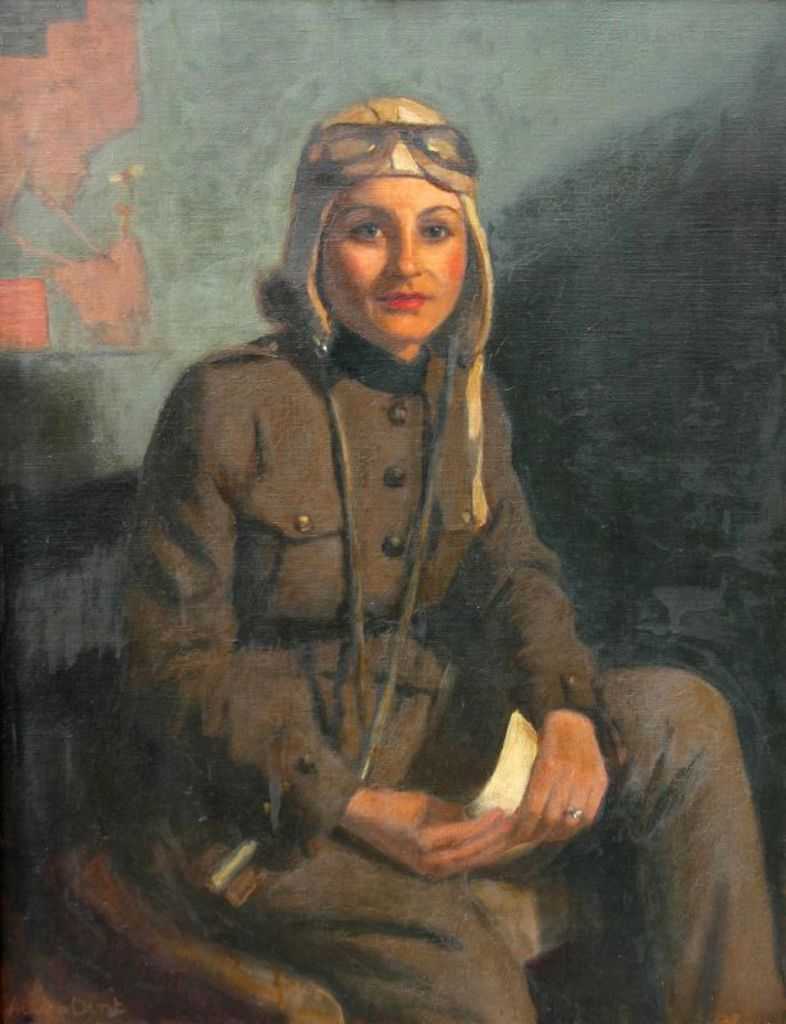Human_hand: (334, 786, 516, 879), (515, 709, 608, 840)
